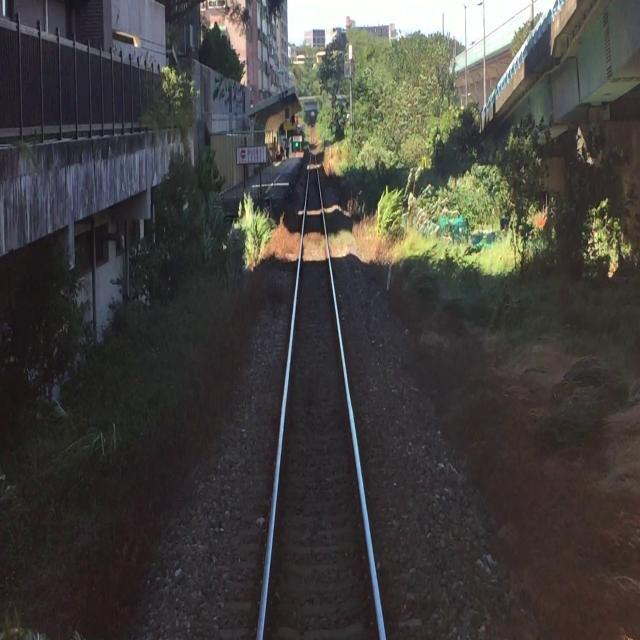track: (247, 149, 394, 640)
